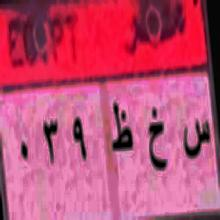0: (15, 134, 32, 165)
3: (41, 115, 60, 174)
9: (70, 111, 91, 164)
Thaa: (110, 100, 133, 164)
khaa: (145, 104, 168, 178)
seen: (182, 116, 210, 161)
